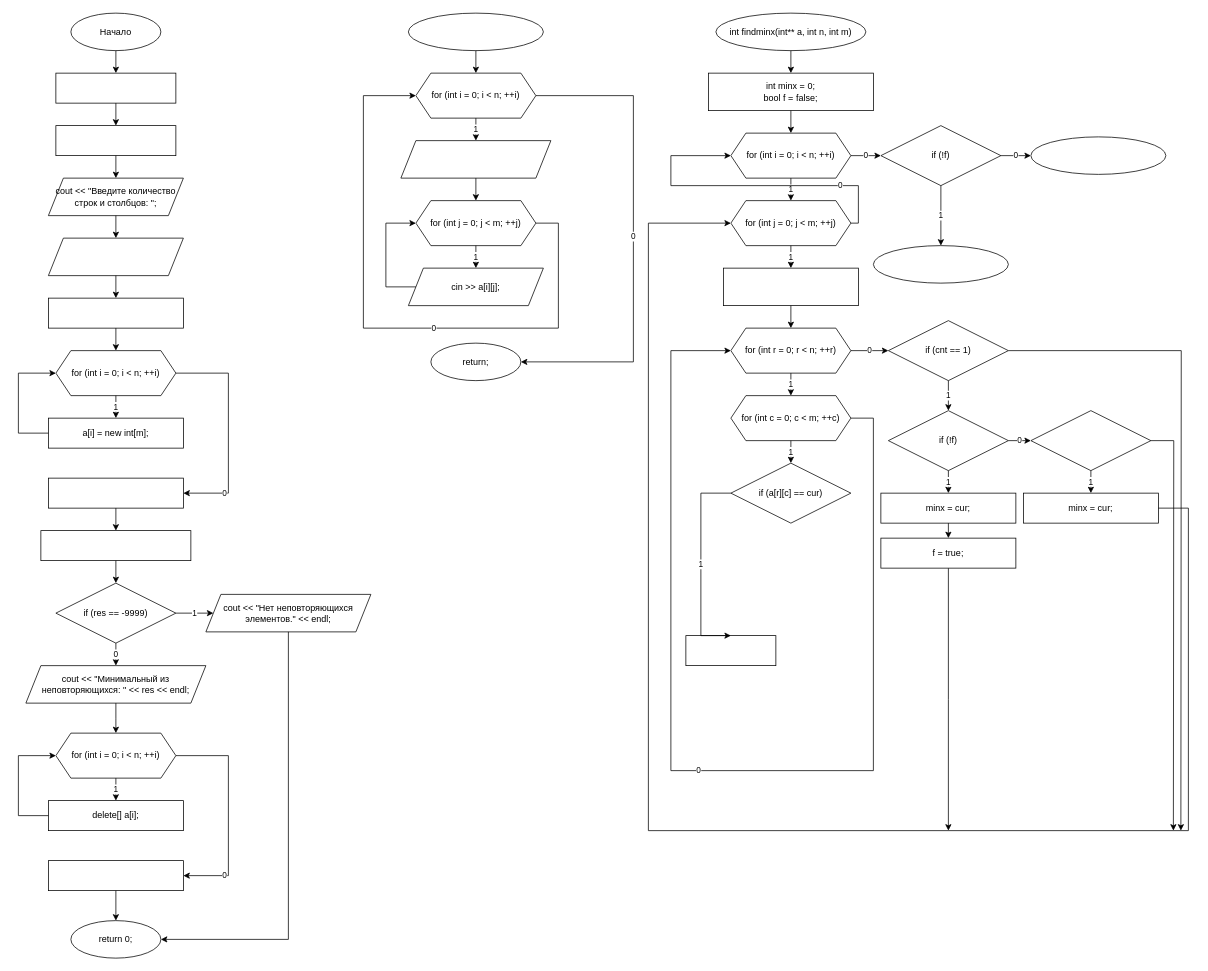
This 1208x971 diagram has some shape labels left out. Here are the shapes that lost their labels. From the top down, the centre of each, then its label:
point (475, 31): void inp(int** a, int n, int m)
point (115, 87): setlocale(LC_ALL, ".65001");
point (115, 140): int n, m;
point (475, 159): cout << "Введите " << i + 1 << " строку: ";
point (1098, 155): return minx;
point (115, 256): cin >> n >> m;
point (940, 264): return -9999;
point (790, 286): int cur = a[i][j]; int cnt = 0;
point (115, 312): int** a = new int*[n];
point (1090, 440): else if (cur < minx)
point (115, 492): inp(a, n, m);
point (115, 545): int res = findminx(a, n, m);
point (730, 650): cnt++;
point (115, 875): delete[] a;
